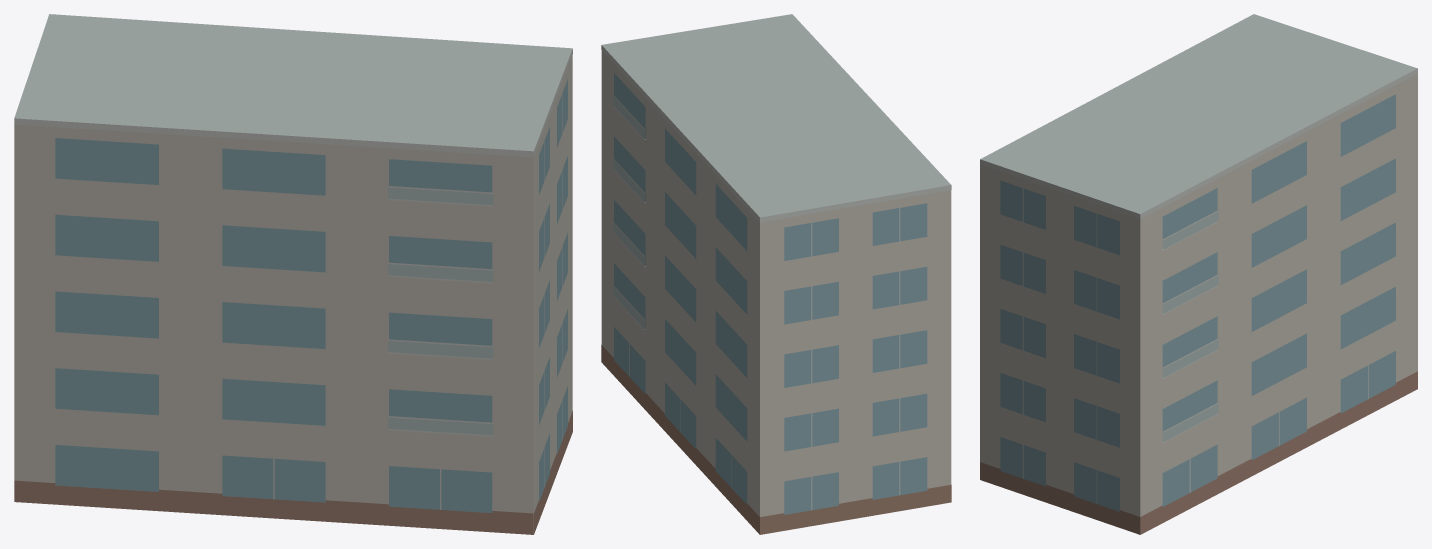
Rendered from survey-upis-32665044.glb.
The picture shows the model from 3 angles, left to right: view 1: azimuth 30°, elevation 25°; view 2: azimuth 150°, elevation 25°; view 3: azimuth 270°, elevation 25°; orthographic projection. The views are drawn at different scales.
Visible parts, largest first — view 1: survey-upis-32665044.tmp; view 2: survey-upis-32665044.tmp; view 3: survey-upis-32665044.tmp.
Boxes of the visible parts, x1,y1,x2,y2 form: survey-upis-32665044.tmp: (14,14,572,534); survey-upis-32665044.tmp: (601,14,951,534); survey-upis-32665044.tmp: (980,14,1417,534).
Size of the model in its own units: 20.43 by 15.25 by 18.88.
